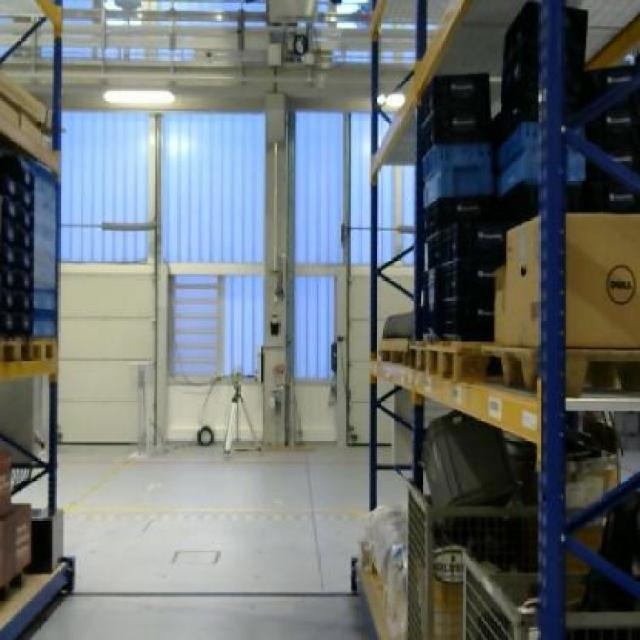box: (499, 209, 639, 348)
